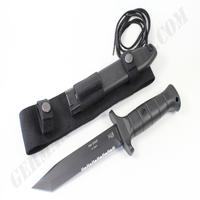knife: (29, 85, 183, 196)
